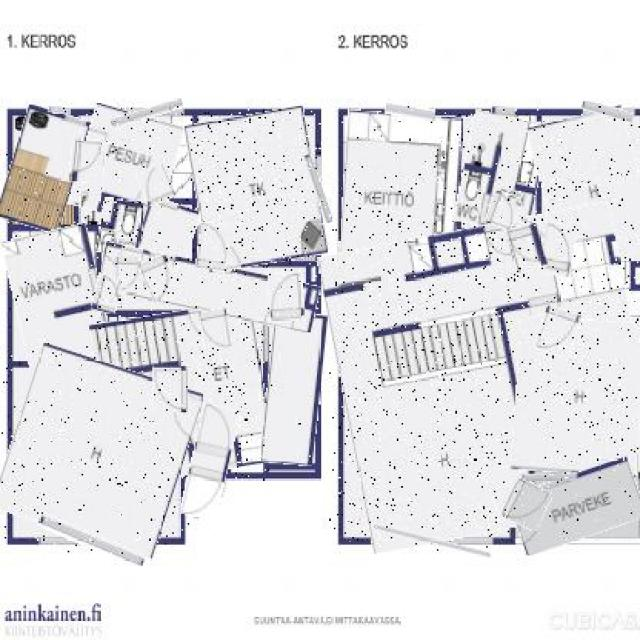door: (187, 405, 236, 520), (505, 480, 549, 528), (537, 308, 578, 355), (542, 223, 576, 277), (509, 223, 546, 271), (268, 274, 304, 320), (152, 368, 188, 414), (141, 257, 177, 300), (197, 222, 229, 270), (70, 140, 104, 182), (138, 166, 174, 205), (486, 192, 520, 230), (200, 309, 231, 349), (94, 275, 121, 314), (115, 258, 138, 296)
window: (37, 523, 146, 559), (372, 531, 491, 551), (309, 153, 328, 224), (111, 105, 183, 123), (581, 105, 634, 120), (384, 105, 436, 118), (491, 106, 517, 122), (522, 474, 578, 480), (48, 108, 70, 114)
zone: (329, 214, 640, 541), (1, 354, 192, 548), (95, 306, 271, 482), (191, 109, 323, 268), (512, 317, 640, 475), (340, 112, 462, 262), (534, 108, 640, 264), (98, 252, 320, 322), (8, 228, 108, 363), (74, 109, 177, 223), (511, 463, 640, 546), (459, 112, 543, 231), (3, 107, 83, 230), (265, 314, 323, 464), (138, 198, 197, 264), (99, 198, 143, 257)
